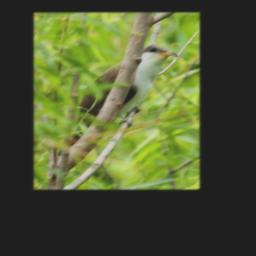Cuckoo: (49, 44, 183, 156)
